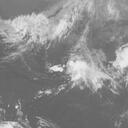cyclone: (53, 58, 104, 95)
